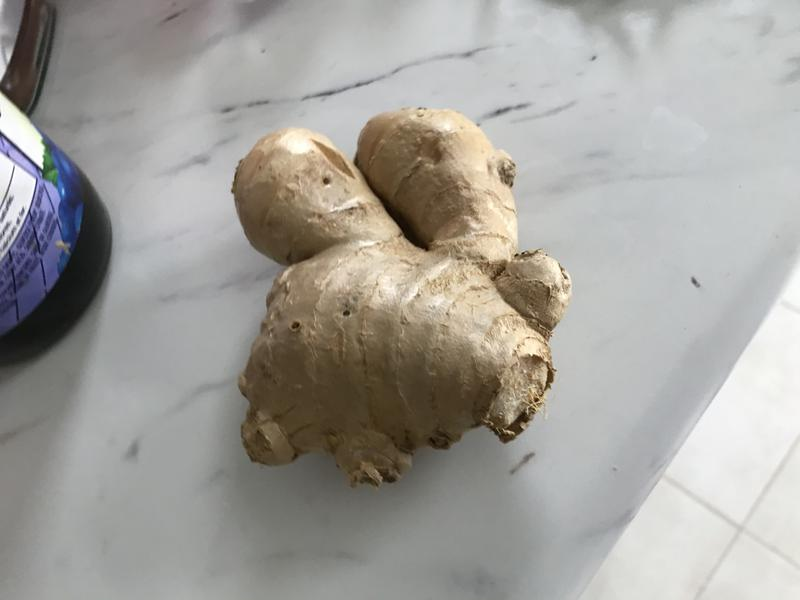ginger: (209, 100, 584, 504)
